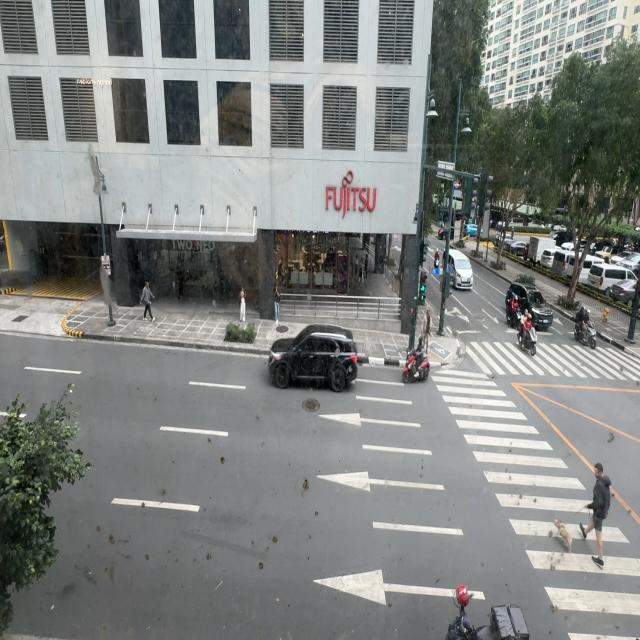crossing: (579, 455, 613, 580)
pedestrain: (140, 281, 155, 322), (273, 283, 281, 325), (239, 287, 247, 324)
waiting: (421, 310, 431, 356)
